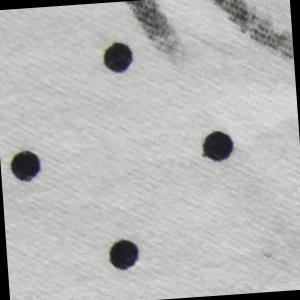Stain: (209, 1, 295, 71), (124, 1, 190, 72)
